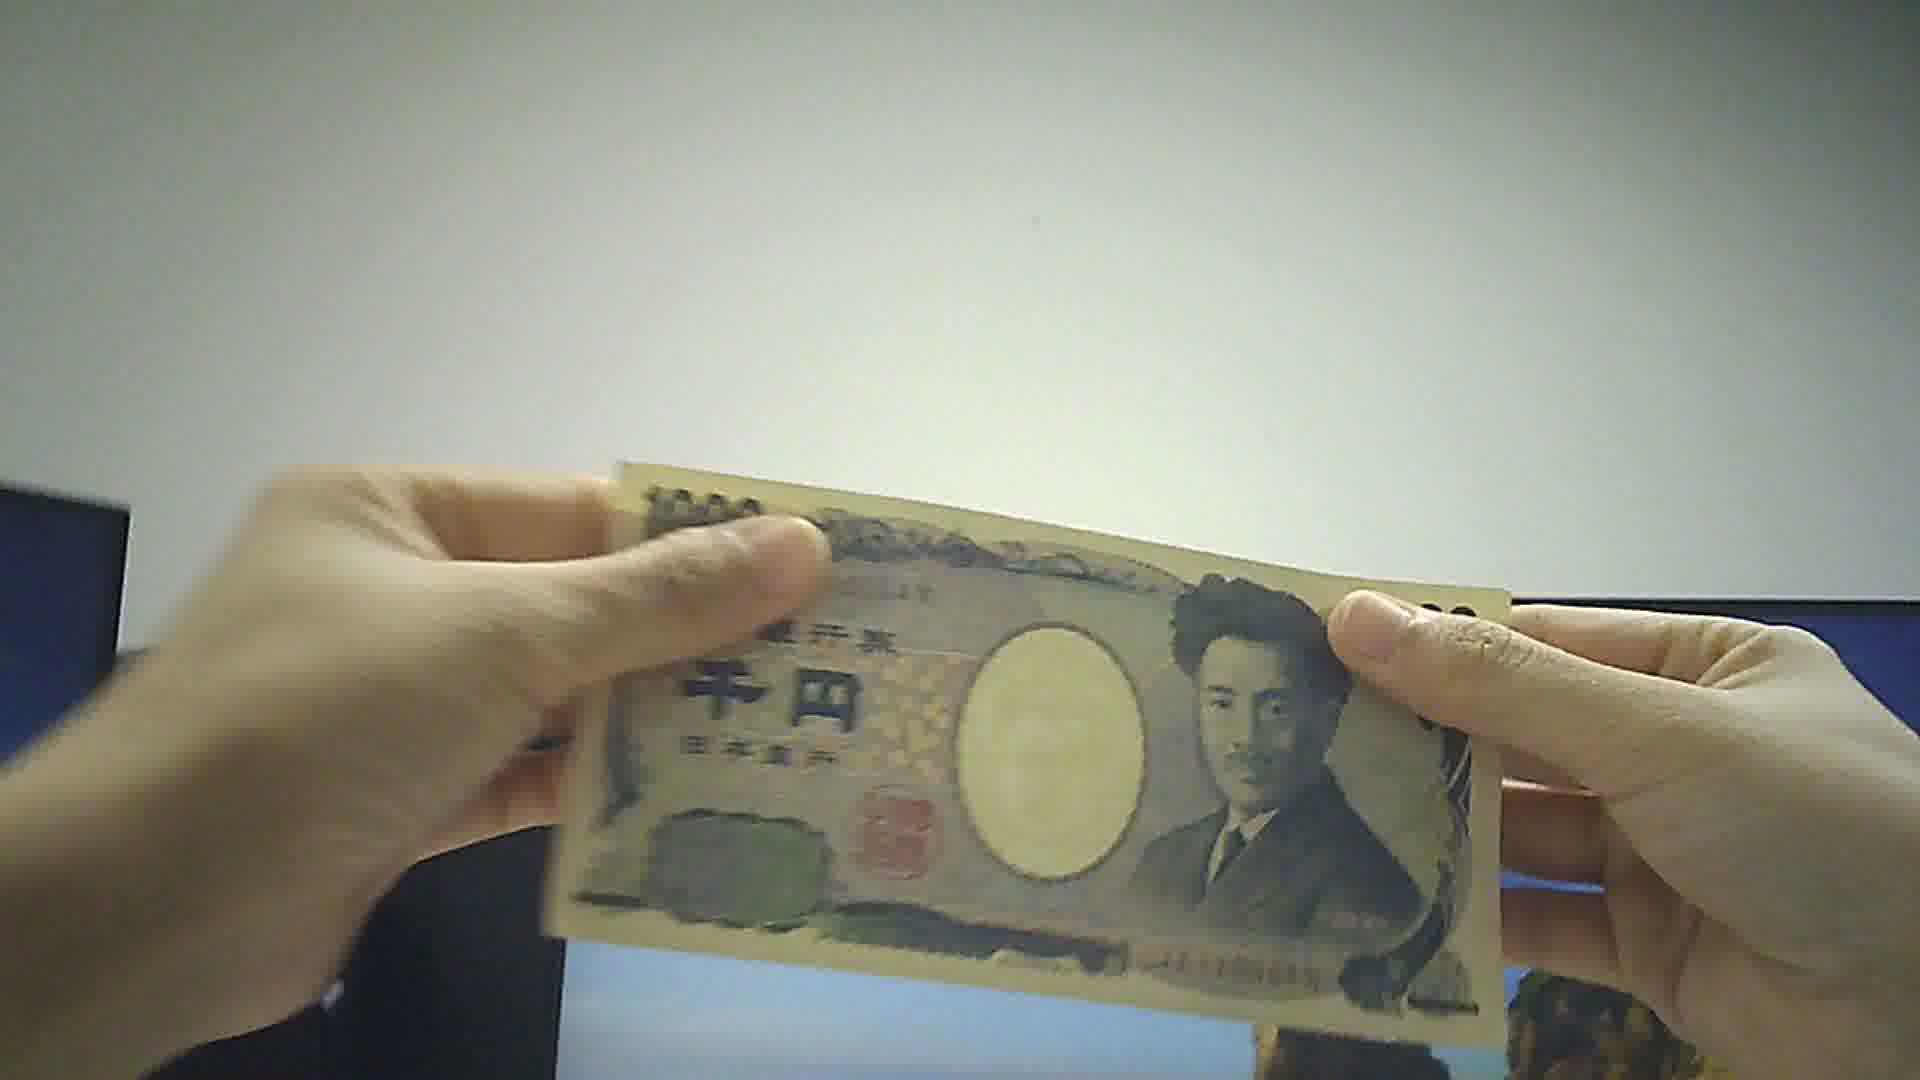1,000 Yen: (542, 447, 1526, 1050)
